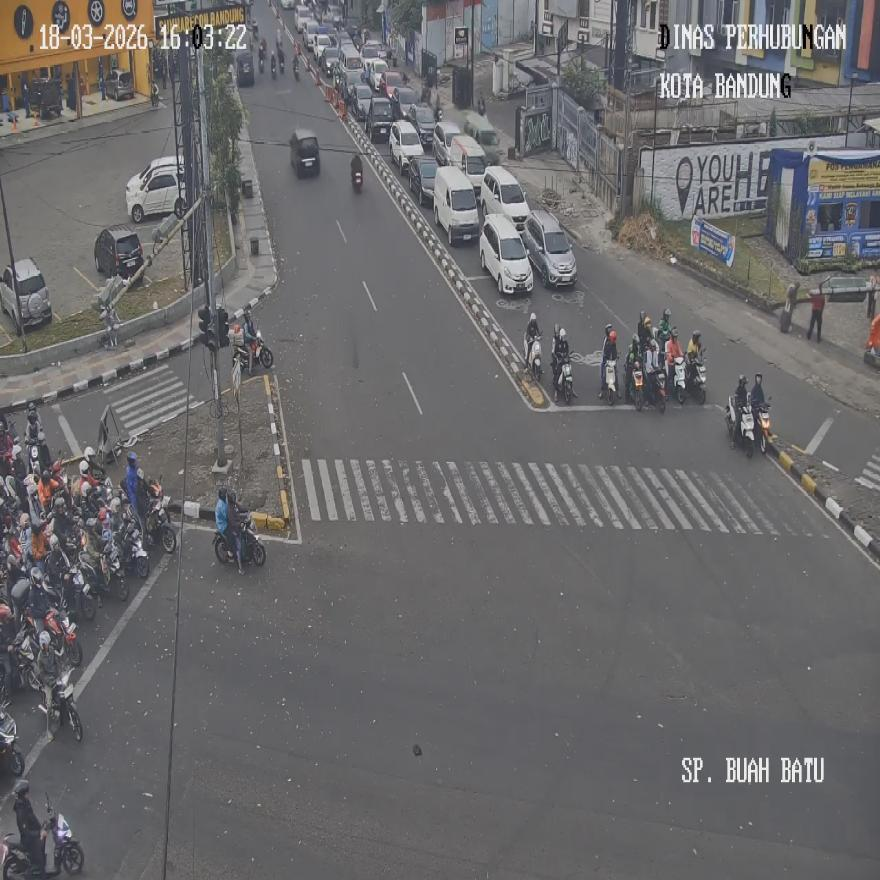Motor: (479, 212, 533, 294), (0, 256, 52, 334)
Truk: (0, 792, 83, 880), (46, 666, 82, 741), (214, 515, 265, 567), (39, 606, 82, 666), (231, 328, 274, 375), (144, 495, 176, 555), (93, 548, 128, 602), (725, 396, 755, 458), (64, 565, 96, 622), (118, 521, 148, 578), (0, 713, 24, 776), (684, 352, 705, 406), (640, 370, 666, 413), (552, 354, 573, 404), (755, 400, 773, 454), (625, 360, 643, 410), (667, 356, 685, 404), (600, 357, 618, 403), (526, 334, 542, 380), (351, 154, 363, 192), (271, 53, 278, 78)
